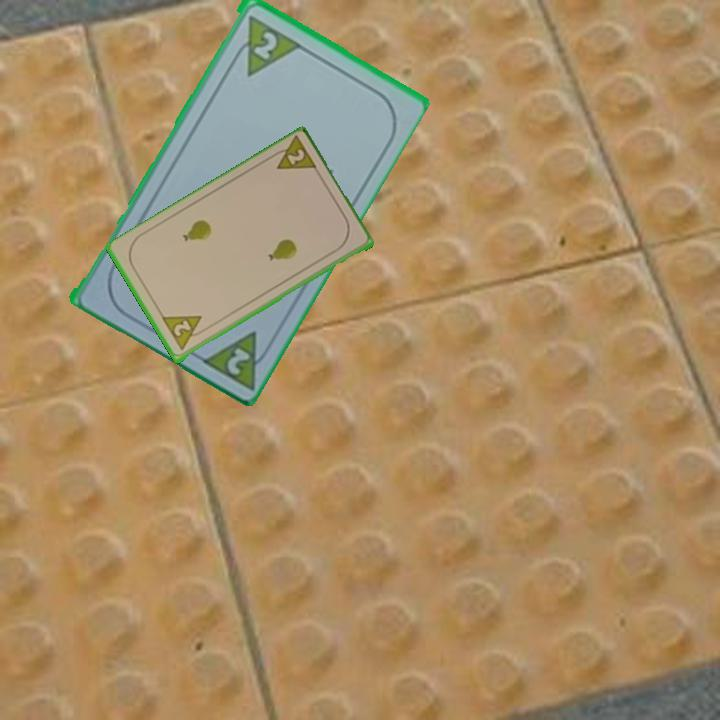2p: (226, 10, 302, 79), (266, 134, 320, 174), (159, 312, 210, 354), (222, 343, 253, 378)
